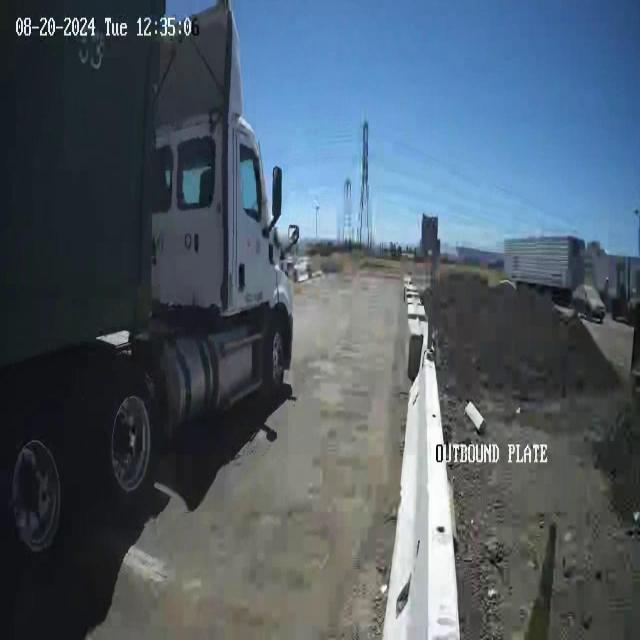TRUCK_IN: (1, 1, 298, 556)
